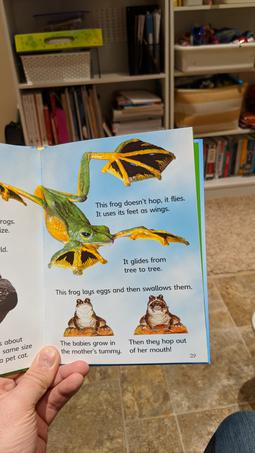text block: (93, 189, 190, 226), (57, 279, 196, 299), (114, 252, 178, 279), (53, 336, 122, 359), (126, 333, 191, 355), (1, 334, 36, 362)
